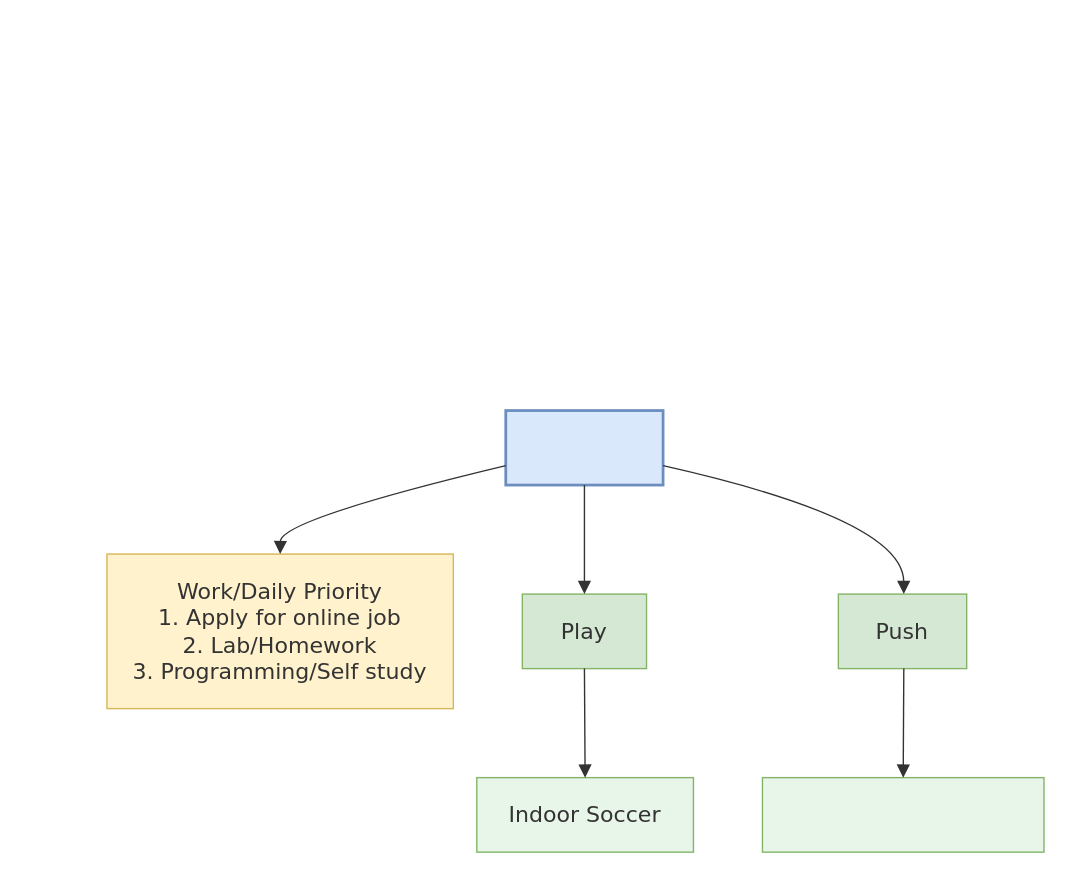
The diagram is 1068 pixels wide and 876 high, and some of its shapes have lost their labels. Here are the shapes that lost their labels. From the top down, the box of each, then its label:
(504, 408, 664, 486): Monday
(761, 776, 1044, 852): Build a Presentation
